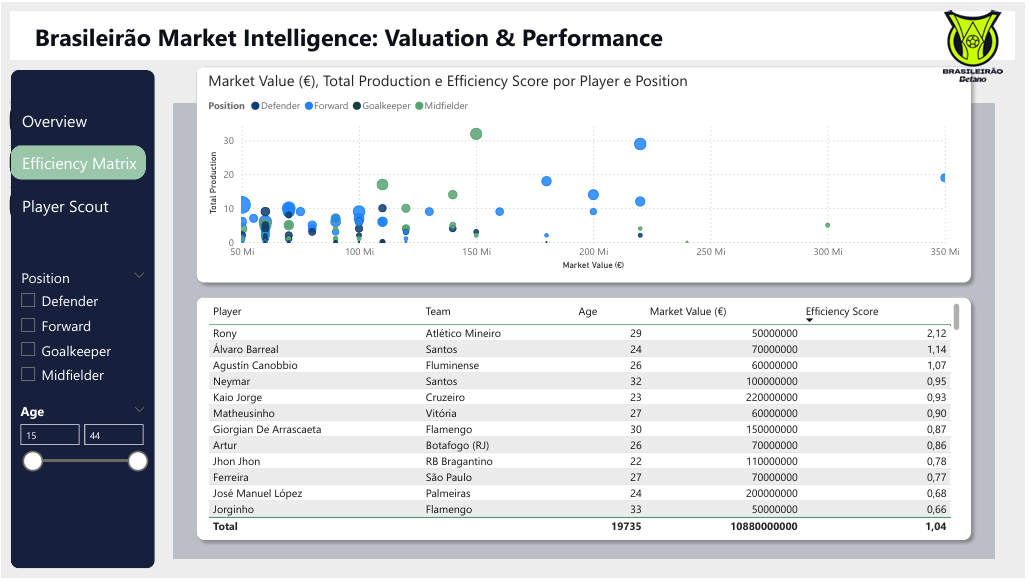

This screenshot's page, from the dashboard's own definition file:
{"tool":"powerbi","page":{"name":"Efficiency Matrix","canvas":[1280,720],"ordinal":1},"visuals":[{"type":"shape","box":[11.7,11.7,1256.7,61.7],"z":0},{"type":"shape","box":[11.7,85,180,623.3],"z":1000},{"type":"shape","box":[215,126.7,1026.7,570],"z":2000},{"type":"shape","box":[234.9,72.3,986.9,287.7],"z":3000},{"type":"shape","box":[234.9,360,986.9,322.5],"z":4000},{"type":"pageNavigator","box":[11.1,126.5,169.6,150.1],"z":5000},{"type":"slicer","fields":{"Values":["dataset_bi.position"]},"box":[11.7,326.7,180,168.3],"z":6000},{"type":"image","box":[1162,11.1,105.6,89],"z":7000},{"type":"slicer","fields":{"Values":["dataset_bi.age"]},"box":[11.1,494.8,180.7,187.6],"z":8000},{"type":"scatterChart","fields":{"X":["Sum(dataset_bi.market_value_euro)"],"Y":["_medidas.Total Production"],"Category":["dataset_bi.player"],"Series":["dataset_bi.position"],"Size":["_medidas.Efficiency Score"]},"box":[254.4,84.8,949.3,254.4],"z":9000},{"type":"tableEx","fields":{"Values":["dataset_bi.player","dataset_bi.team","Sum(dataset_bi.age)","Sum(dataset_bi.market_value_euro)","_medidas.Efficiency Score"]},"box":[254.4,371.1,949.3,297.5],"z":10000}]}

Visuals, with their boxes on the page's 1280x720 design canvas (x1, y1, x2, y2). These are canvas units, not pixel positions in the 1029x581 screenshot, which may show the page scaled, cropped or inside an application window:
shape: rect(12, 12, 1268, 73)
shape: rect(12, 85, 192, 708)
shape: rect(215, 127, 1242, 697)
shape: rect(235, 72, 1222, 360)
shape: rect(235, 360, 1222, 682)
pageNavigator: rect(11, 126, 181, 277)
slicer - dataset_bi.position: rect(12, 327, 192, 495)
image: rect(1162, 11, 1268, 100)
slicer - dataset_bi.age: rect(11, 495, 192, 682)
scatterChart - Sum(dataset_bi.market_value_euro) x _medidas.Total Production: rect(254, 85, 1204, 339)
tableEx - dataset_bi.player x dataset_bi.team: rect(254, 371, 1204, 669)
